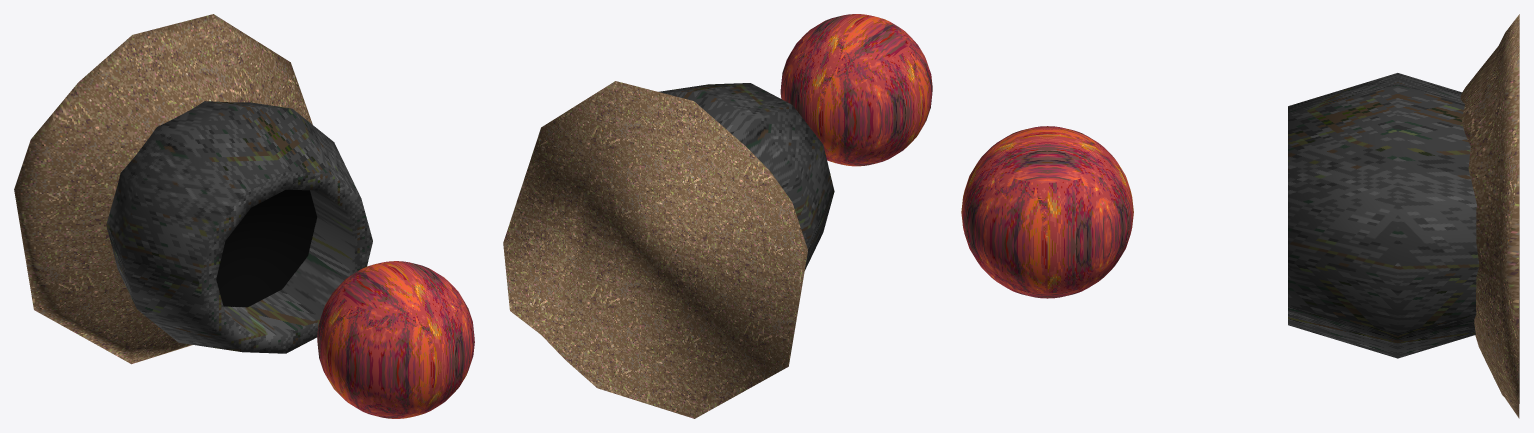
File: cannon.fbx
The picture shows the model from 3 angles, left to right: view 1: azimuth 30°, elevation 25°; view 2: azimuth 150°, elevation 25°; view 3: azimuth 270°, elevation 25°; orthographic projection. The views are drawn at different scales.
Visible parts, largest first — view 1: MagmaCannon, MagmaProjectile; view 2: MagmaCannon, MagmaProjectile; view 3: MagmaCannon, MagmaProjectile.
Part boxes in pixels (x1,y1,x2,y2): MagmaCannon: (14, 14, 372, 364); MagmaProjectile: (317, 261, 474, 418); MagmaCannon: (503, 81, 834, 418); MagmaProjectile: (780, 14, 932, 166); MagmaCannon: (1288, 14, 1519, 418); MagmaProjectile: (961, 126, 1133, 298).
Size of the model in its own units: 363 by 362 by 508.
